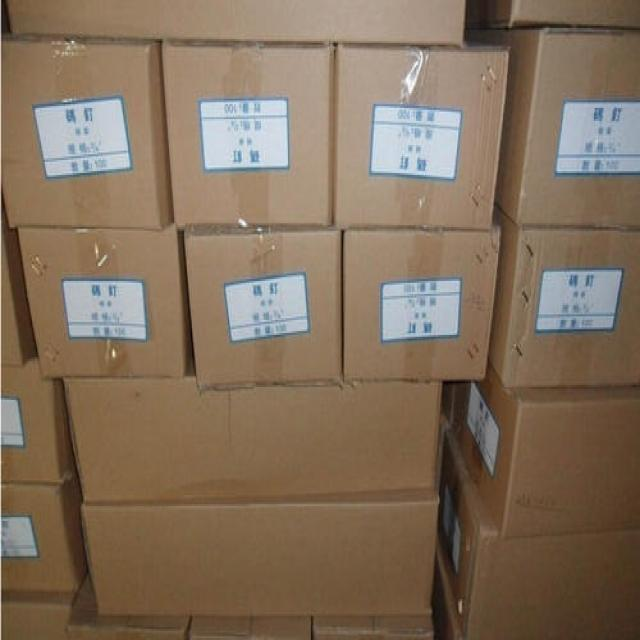box: (63, 372, 442, 500), (81, 499, 438, 618), (440, 432, 640, 640), (334, 32, 509, 233), (454, 361, 640, 538), (0, 39, 173, 227), (161, 43, 333, 231), (495, 30, 640, 231), (489, 210, 640, 389), (183, 231, 343, 394), (17, 229, 184, 380), (343, 225, 500, 383), (6, 0, 465, 47), (3, 465, 88, 595), (0, 353, 78, 486), (65, 575, 188, 640), (0, 190, 36, 368), (0, 590, 76, 640), (509, 0, 640, 28), (311, 618, 434, 640), (189, 618, 252, 640), (251, 620, 312, 640)
